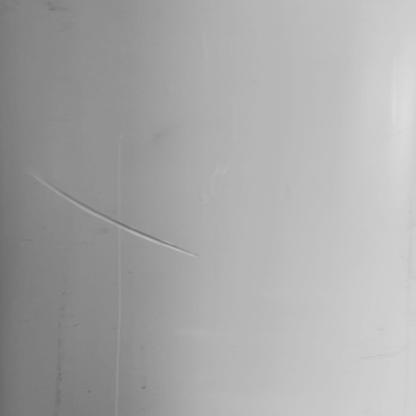sunshang: (31, 172, 197, 257)
